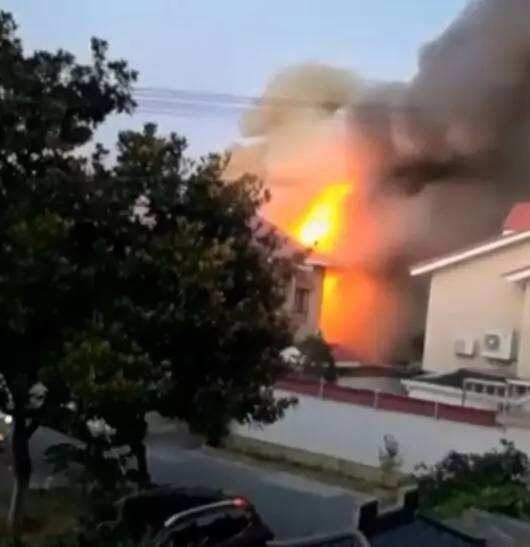fire: (287, 177, 358, 253)
